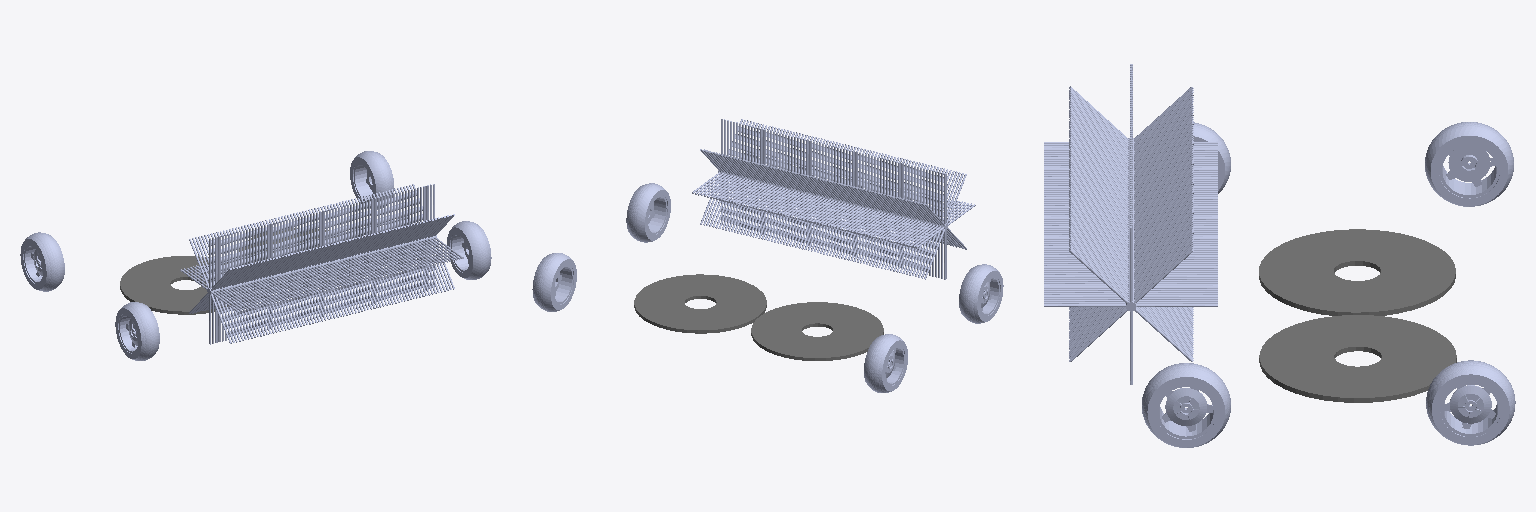
URDF robot description (URDF 3.0):
<?xml version="1.0" encoding="utf-8"?>
<!-- This URDF was automatically created by SolidWorks to URDF Exporter! Originally created by [author] ([email redacted]) 
     Commit Version: 1.6.0-4-g7f85cfe  Build Version: 1.6.7995.38578
     For more information, please see http://wiki.ros.org/sw_urdf_exporter -->
<robot
  name="URDF 3.0">
  <link
    name="base_link">
    <inertial>
      <origin
        xyz="-0.0597485302559153 0.0141254257572485 0.10587011505937"
        rpy="0 0 0" />
      <mass
        value="11.1719906867681" />
      <inertia
        ixx="0.04208810641191"
        ixy="-2.11662545192816E-06"
        ixz="1.07133003217212E-05"
        iyy="0.165332383660781"
        iyz="-0.000468163154422701"
        izz="0.148542200683734" />
    </inertial>
    <visual>
      <origin
        xyz="0 0 0"
        rpy="0 0 0" />
      <geometry>
        <mesh
          filename="package://URDF 3.0/meshes/base_link.STL" />
      </geometry>
      <material
        name="">
        <color
          rgba="0.792156862745098 0.819607843137255 0.933333333333333 1" />
      </material>
    </visual>
    <collision>
      <origin
        xyz="0 0 0"
        rpy="0 0 0" />
      <geometry>
        <mesh
          filename="package://URDF 3.0/meshes/base_link.STL" />
      </geometry>
    </collision>
  </link>
  <link
    name="FL">
    <inertial>
      <origin
        xyz="-5.79677020457608E-07 0.0151323328436038 -5.00752536880533E-07"
        rpy="0 0 0" />
      <mass
        value="0.0950105358602906" />
      <inertia
        ixx="5.98250321654138E-05"
        ixy="-6.94293351257952E-11"
        ixz="-2.083651007556E-10"
        iyy="0.000107921195979308"
        iyz="-2.16837066452229E-12"
        izz="5.98197566511386E-05" />
    </inertial>
    <visual>
      <origin
        xyz="0 0 0"
        rpy="0 0 0" />
      <geometry>
        <mesh
          filename="package://URDF 3.0/meshes/FL.STL" />
      </geometry>
      <material
        name="">
        <color
          rgba="0.792156862745098 0.819607843137255 0.933333333333333 1" />
      </material>
    </visual>
    <collision>
      <origin
        xyz="0 0 0"
        rpy="0 0 0" />
      <geometry>
        <mesh
          filename="package://URDF 3.0/meshes/FL.STL" />
      </geometry>
    </collision>
  </link>
  <joint
    name="FL"
    type="revolute">
    <origin
      xyz="0.19407 -0.13018 -0.02"
      rpy="0 1.4875 -1.5708" />
    <parent
      link="base_link" />
    <child
      link="FL" />
    <axis
      xyz="0 1 0" />
    <limit
      lower="0"
      upper="0"
      effort="0"
      velocity="0" />
  </joint>
  <link
    name="BL">
    <inertial>
      <origin
        xyz="-5.78404988932357E-07 0.0151323328747486 -4.99227772125105E-07"
        rpy="0 0 0" />
      <mass
        value="0.0950105281619692" />
      <inertia
        ixx="5.98250312538872E-05"
        ixy="-6.94548645735987E-11"
        ixz="-2.07958959782222E-10"
        iyy="0.000107921195272557"
        iyz="-1.83546745548141E-12"
        izz="5.98197568319816E-05" />
    </inertial>
    <visual>
      <origin
        xyz="0 0 0"
        rpy="0 0 0" />
      <geometry>
        <mesh
          filename="package://URDF 3.0/meshes/BL.STL" />
      </geometry>
      <material
        name="">
        <color
          rgba="0.792156862745098 0.819607843137255 0.933333333333333 1" />
      </material>
    </visual>
    <collision>
      <origin
        xyz="0 0 0"
        rpy="0 0 0" />
      <geometry>
        <mesh
          filename="package://URDF 3.0/meshes/BL.STL" />
      </geometry>
    </collision>
  </link>
  <joint
    name="BL"
    type="revolute">
    <origin
      xyz="0.19138 0.1398 -0.018649"
      rpy="0 -0.1784 -1.5708" />
    <parent
      link="base_link" />
    <child
      link="BL" />
    <axis
      xyz="0 1 0" />
    <limit
      lower="0"
      upper="0"
      effort="0"
      velocity="0" />
  </joint>
  <link
    name="BR">
    <inertial>
      <origin
        xyz="-5.77761134434862E-07 0.0151323328879169 -4.98109920907264E-07"
        rpy="0 0 0" />
      <mass
        value="0.0950105229485309" />
      <inertia
        ixx="5.98250306225597E-05"
        ixy="-6.94402427287059E-11"
        ixz="-2.07702939257685E-10"
        iyy="0.000107921194814849"
        iyz="-1.62303522803996E-12"
        izz="5.98197569896134E-05" />
    </inertial>
    <visual>
      <origin
        xyz="0 0 0"
        rpy="0 0 0" />
      <geometry>
        <mesh
          filename="package://URDF 3.0/meshes/BR.STL" />
      </geometry>
      <material
        name="">
        <color
          rgba="0.792156862745098 0.819607843137255 0.933333333333333 1" />
      </material>
    </visual>
    <collision>
      <origin
        xyz="0 0 0"
        rpy="0 0 0" />
      <geometry>
        <mesh
          filename="package://URDF 3.0/meshes/BR.STL" />
      </geometry>
    </collision>
  </link>
  <joint
    name="BR"
    type="revolute">
    <origin
      xyz="-0.31799 0.13858 -0.02"
      rpy="3.1416 -0.28431 -1.5708" />
    <parent
      link="base_link" />
    <child
      link="BR" />
    <axis
      xyz="0 1 0" />
    <limit
      lower="0"
      upper="0"
      effort="0"
      velocity="0" />
  </joint>
  <link
    name="FR">
    <inertial>
      <origin
        xyz="-5.7776113457364E-07 0.0151323328879173 -4.98109921490131E-07"
        rpy="0 0 0" />
      <mass
        value="0.0950105229485304" />
      <inertia
        ixx="5.98250306225597E-05"
        ixy="-6.94402427619757E-11"
        ixz="-2.07702939296648E-10"
        iyy="0.000107921194814849"
        iyz="-1.6230369923583E-12"
        izz="5.98197569896134E-05" />
    </inertial>
    <visual>
      <origin
        xyz="0 0 0"
        rpy="0 0 0" />
      <geometry>
        <mesh
          filename="package://URDF 3.0/meshes/FR.STL" />
      </geometry>
      <material
        name="">
        <color
          rgba="0.792156862745098 0.819607843137255 0.933333333333333 1" />
      </material>
    </visual>
    <collision>
      <origin
        xyz="0 0 0"
        rpy="0 0 0" />
      <geometry>
        <mesh
          filename="package://URDF 3.0/meshes/FR.STL" />
      </geometry>
    </collision>
  </link>
  <joint
    name="FR"
    type="revolute">
    <origin
      xyz="-0.31797 -0.13018 -0.02"
      rpy="-3.1416 0.88964 -1.5708" />
    <parent
      link="base_link" />
    <child
      link="FR" />
    <axis
      xyz="0 1 0" />
    <limit
      lower="0"
      upper="0"
      effort="0"
      velocity="0" />
  </joint>
  <link
    name="Roller">
    <inertial>
      <origin
        xyz="-0.0618941629050755 2.53963516883005E-15 -8.88178419700125E-16"
        rpy="0 0 0" />
      <mass
        value="0.353139548782225" />
      <inertia
        ixx="0.000780768429716988"
        ixy="-2.65684882072101E-17"
        ixz="-7.93999953718033E-17"
        iyy="0.00441844542146301"
        iyz="7.76106681622495E-18"
        izz="0.004418445421463" />
    </inertial>
    <visual>
      <origin
        xyz="0 0 0"
        rpy="0 0 0" />
      <geometry>
        <mesh
          filename="package://URDF 3.0/meshes/Roller.STL" />
      </geometry>
      <material
        name="">
        <color
          rgba="0.792156862745098 0.819607843137255 0.933333333333333 1" />
      </material>
    </visual>
    <collision>
      <origin
        xyz="0 0 0"
        rpy="0 0 0" />
      <geometry>
        <mesh
          filename="package://URDF 3.0/meshes/Roller.STL" />
      </geometry>
    </collision>
  </link>
  <joint
    name="Roller"
    type="revolute">
    <origin
      xyz="0 -0.18256 0.04334"
      rpy="1.5708 0 0" />
    <parent
      link="base_link" />
    <child
      link="Roller" />
    <axis
      xyz="-1 0 0" />
    <limit
      lower="0"
      upper="0"
      effort="0"
      velocity="0" />
  </joint>
  <link
    name="ML">
    <inertial>
      <origin
        xyz="1.73472347597681E-16 -0.00250000000000033 -6.93889390390723E-18"
        rpy="0 0 0" />
      <mass
        value="0.129817069335416" />
      <inertia
        ixx="0.000301885474933379"
        ixy="-4.59177480789963E-38"
        ixz="4.12251861726249E-36"
        iyy="0.000603230045411194"
        iyz="5.64688631502865E-22"
        izz="0.000301885474933379" />
    </inertial>
    <visual>
      <origin
        xyz="0 0 0"
        rpy="0 0 0" />
      <geometry>
        <mesh
          filename="package://URDF 3.0/meshes/ML.STL" />
      </geometry>
      <material
        name="">
        <color
          rgba="0.498039215686275 0.498039215686275 0.498039215686275 1" />
      </material>
    </visual>
    <collision>
      <origin
        xyz="0 0 0"
        rpy="0 0 0" />
      <geometry>
        <mesh
          filename="package://URDF 3.0/meshes/ML.STL" />
      </geometry>
    </collision>
  </link>
  <joint
    name="ML"
    type="revolute">
    <origin
      xyz="0.030419 0.032759 -0.051995"
      rpy="1.5708 0 0" />
    <parent
      link="base_link" />
    <child
      link="ML" />
    <axis
      xyz="0 -1 0" />
    <limit
      lower="0"
      upper="0"
      effort="0"
      velocity="0" />
  </joint>
  <link
    name="MR">
    <inertial>
      <origin
        xyz="-1.66533453693773E-16 -0.00249999999999968 -2.77555756156289E-17"
        rpy="0 0 0" />
      <mass
        value="0.129817069335416" />
      <inertia
        ixx="0.000301885474933379"
        ixy="-6.60808010382816E-38"
        ixz="-1.58840351650759E-38"
        iyy="0.000603230045411194"
        iyz="5.64688631502866E-22"
        izz="0.000301885474933379" />
    </inertial>
    <visual>
      <origin
        xyz="0 0 0"
        rpy="0 0 0" />
      <geometry>
        <mesh
          filename="package://URDF 3.0/meshes/MR.STL" />
      </geometry>
      <material
        name="">
        <color
          rgba="0.498039215686275 0.498039215686275 0.498039215686275 1" />
      </material>
    </visual>
    <collision>
      <origin
        xyz="0 0 0"
        rpy="0 0 0" />
      <geometry>
        <mesh
          filename="package://URDF 3.0/meshes/MR.STL" />
      </geometry>
    </collision>
  </link>
  <joint
    name="MR"
    type="revolute">
    <origin
      xyz="-0.15985 0.032114 -0.051034"
      rpy="1.5708 0 0" />
    <parent
      link="base_link" />
    <child
      link="MR" />
    <axis
      xyz="0 -1 0" />
    <limit
      lower="0"
      upper="0"
      effort="0"
      velocity="0" />
  </joint>
</robot>

--- Render facts (derived) ---
3 views of the same robot in one strip: view 1: azimuth 30°, elevation 25°; view 2: azimuth 150°, elevation 25°; view 3: azimuth 270°, elevation 25° (orthographic).
Robot: URDF 3.0 — 8 links, 7 joints (7 revolute); root link base_link; default pose: every joint at zero.
Visible links, largest first — view 1: Roller, MR, FR, BR, FL, BL; view 2: Roller, ML, MR, FL, FR, BL, BR; view 3: Roller, MR, ML, BL, FL, BR, FR.
Boxes of the visible links, x1=… form: Roller: x1=180, y1=184, x2=463, y2=344; MR: x1=120, y1=256, x2=230, y2=314; FR: x1=115, y1=302, x2=159, y2=360; BR: x1=20, y1=232, x2=64, y2=291; FL: x1=447, y1=221, x2=491, y2=279; BL: x1=350, y1=151, x2=394, y2=209; Roller: x1=692, y1=119, x2=975, y2=279; ML: x1=634, y1=274, x2=766, y2=333; MR: x1=751, y1=302, x2=883, y2=360; FL: x1=626, y1=183, x2=670, y2=242; FR: x1=959, y1=264, x2=1003, y2=323; BL: x1=532, y1=253, x2=576, y2=311; BR: x1=864, y1=334, x2=907, y2=392; Roller: x1=1044, y1=64, x2=1217, y2=384; MR: x1=1259, y1=229, x2=1455, y2=315; ML: x1=1259, y1=315, x2=1456, y2=402; BL: x1=1426, y1=360, x2=1515, y2=445; FL: x1=1142, y1=363, x2=1230, y2=447; BR: x1=1425, y1=122, x2=1513, y2=206; FR: x1=1193, y1=122, x2=1230, y2=193.
Bounding box of the posed robot: 0.5721 × 0.4472 × 0.1882 m (x, y, z).
7 mesh visuals loaded from 8 distinct referenced files (7 binary STL); not drawn: 1 (reference not matched to a file when rendering).